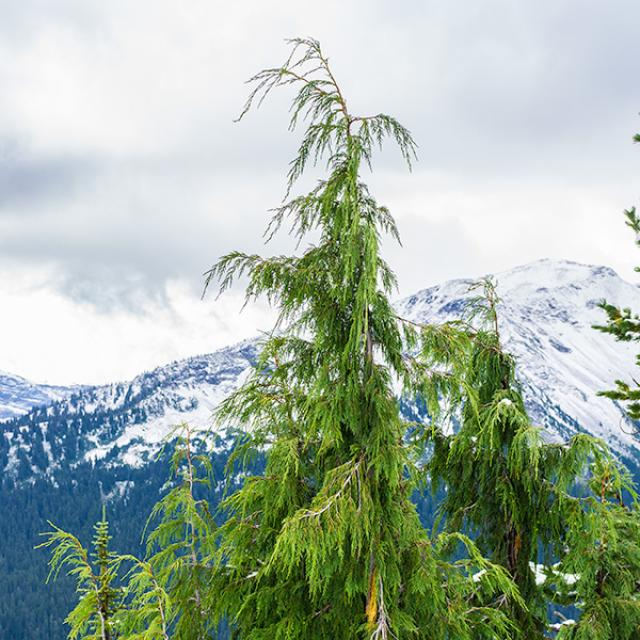Cupressus nootkatensis: (197, 32, 528, 640)
